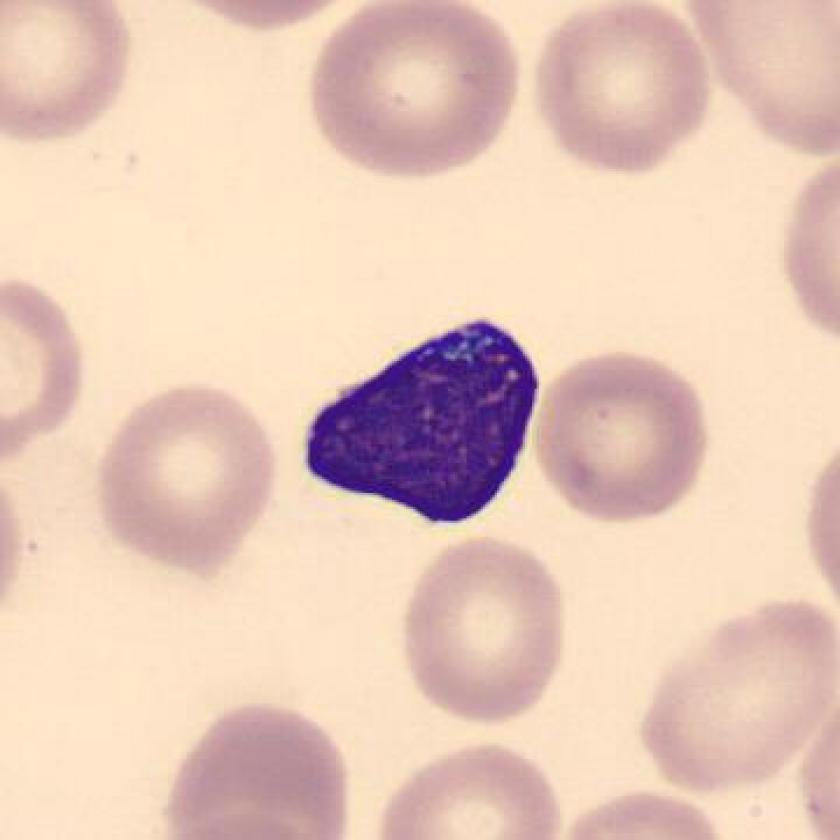lymphocyte: (286, 295, 570, 559)
